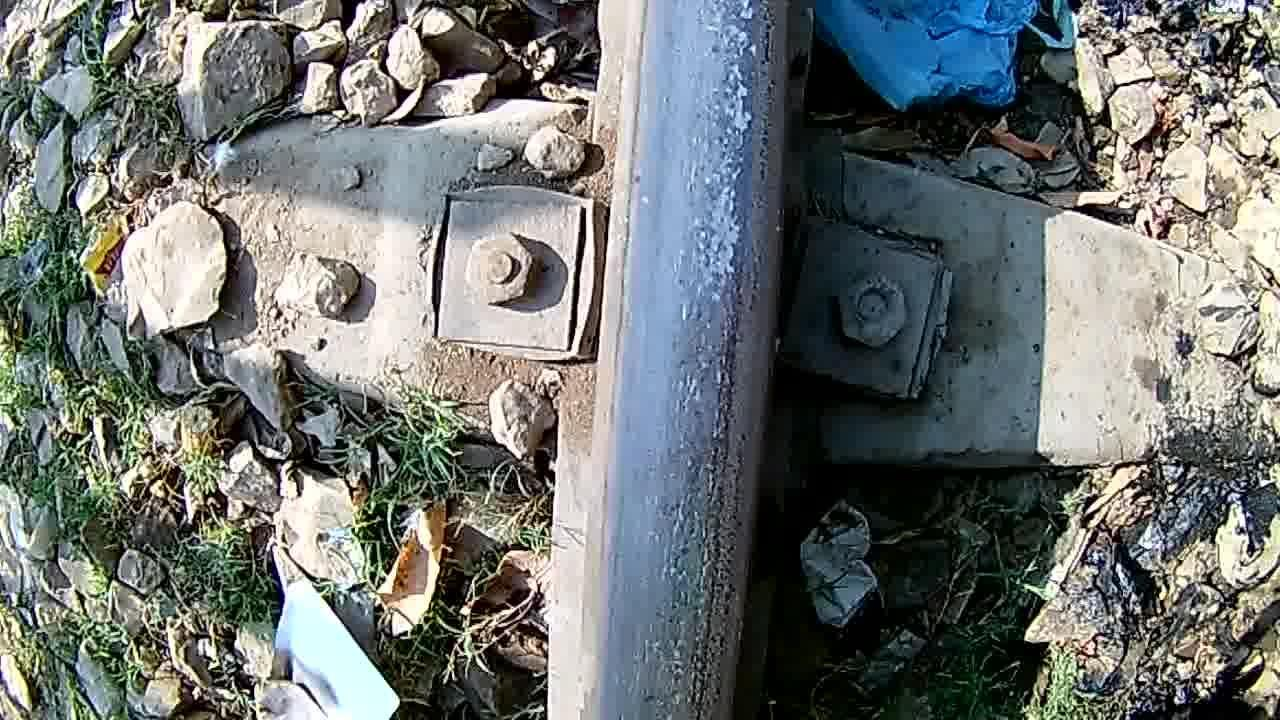crack: (596, 0, 794, 720)
